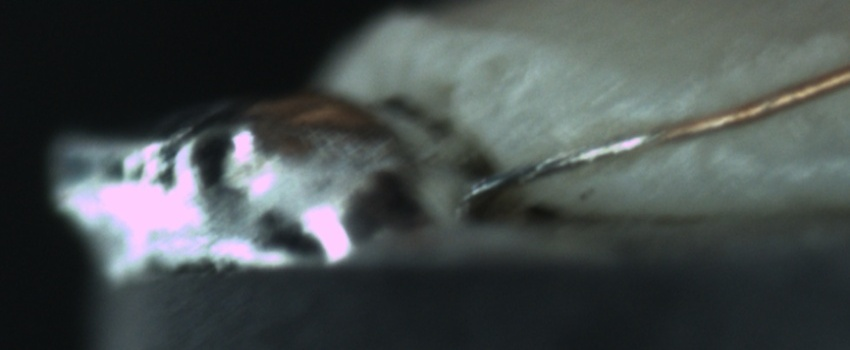TS: (464, 133, 653, 199)
